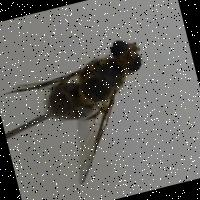Oriental-fruit-fly: (0, 27, 174, 190)
